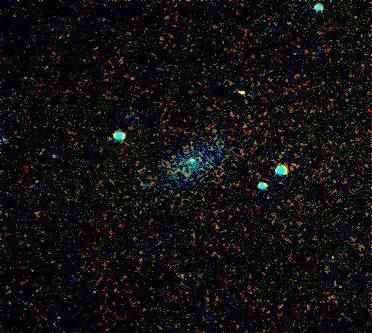star: (229, 75, 259, 105)
